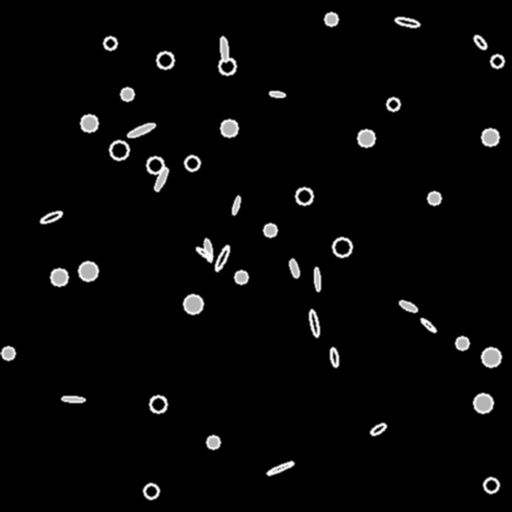pseudomonas: (127, 121, 155, 139), (213, 244, 231, 272), (266, 460, 294, 476), (153, 167, 169, 191), (308, 309, 320, 337), (39, 210, 63, 224), (394, 16, 420, 28), (398, 299, 418, 313), (219, 36, 229, 62), (420, 317, 436, 333), (472, 34, 488, 50), (369, 422, 387, 436), (195, 246, 213, 260), (288, 258, 300, 278), (203, 239, 213, 261), (329, 347, 339, 367), (231, 196, 241, 214), (62, 396, 84, 402), (314, 268, 320, 290), (269, 90, 285, 98)
synechocystis: (333, 238, 351, 256), (482, 348, 500, 366), (79, 262, 97, 280), (110, 141, 128, 159), (184, 295, 202, 313), (474, 394, 492, 412), (358, 130, 374, 146), (147, 157, 163, 173), (157, 52, 173, 68), (296, 188, 312, 204), (482, 129, 498, 145), (219, 58, 235, 74), (221, 120, 237, 136), (150, 396, 166, 412), (51, 269, 67, 285), (81, 115, 97, 131), (484, 478, 498, 492), (144, 484, 158, 498), (185, 156, 199, 170), (325, 13, 337, 25), (104, 37, 116, 49), (387, 98, 399, 110), (456, 337, 468, 349), (2, 347, 14, 359), (121, 88, 133, 100), (264, 224, 276, 236), (207, 436, 219, 448), (235, 271, 247, 283), (491, 55, 503, 67), (428, 192, 440, 204)
